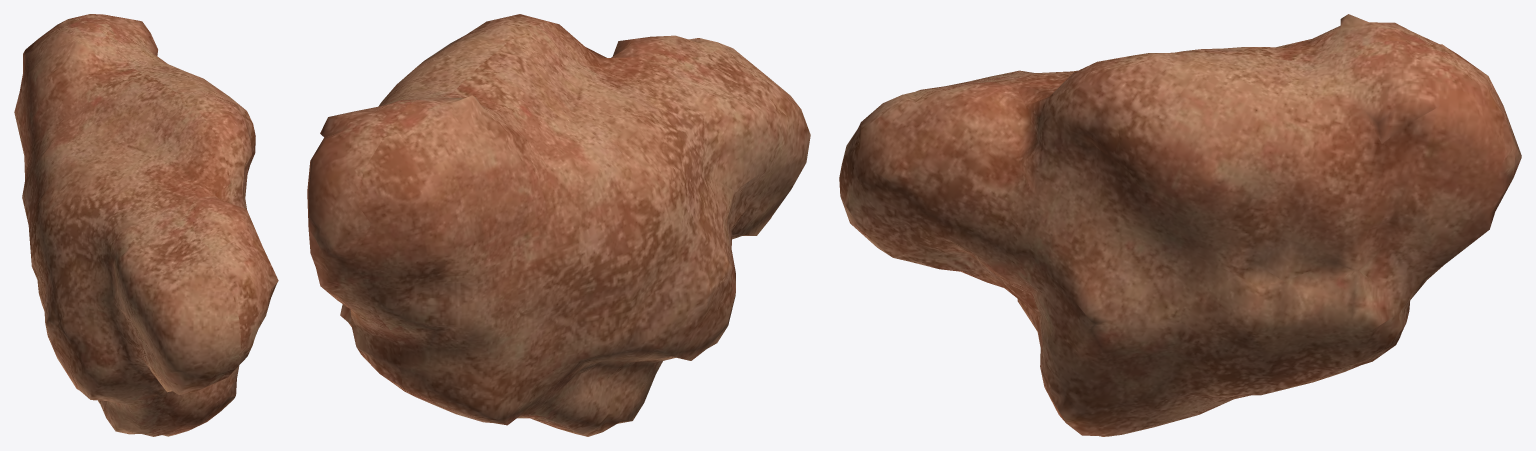
Rendered from rock.glb.
3 renders of one model, left to right at view 1: azimuth 30°, elevation 25°; view 2: azimuth 150°, elevation 25°; view 3: azimuth 270°, elevation 25°, orthographic. The views are drawn at different scales.
Parts seen in each view (by area): view 1: defaultMaterial; view 2: defaultMaterial; view 3: defaultMaterial.
Boxes of the visible parts, box(x1,y1,x2,y2) form: defaultMaterial: box(14, 14, 278, 436); defaultMaterial: box(307, 14, 810, 436); defaultMaterial: box(839, 14, 1521, 436).
Size of the model in its own units: 0.9837 by 1.36 by 2.
1 material, 1 textured.
